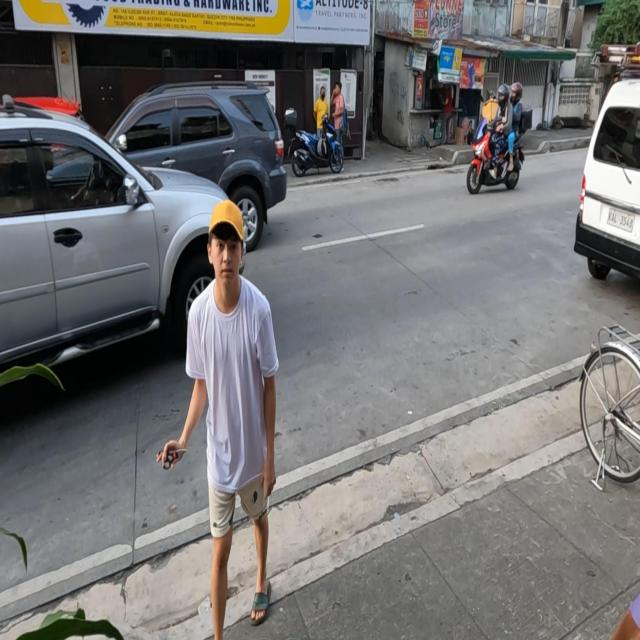scissor: (156, 445, 188, 471)
